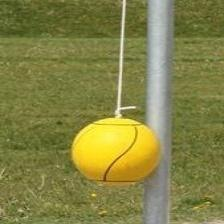Sports-Ball: (70, 114, 163, 191)
